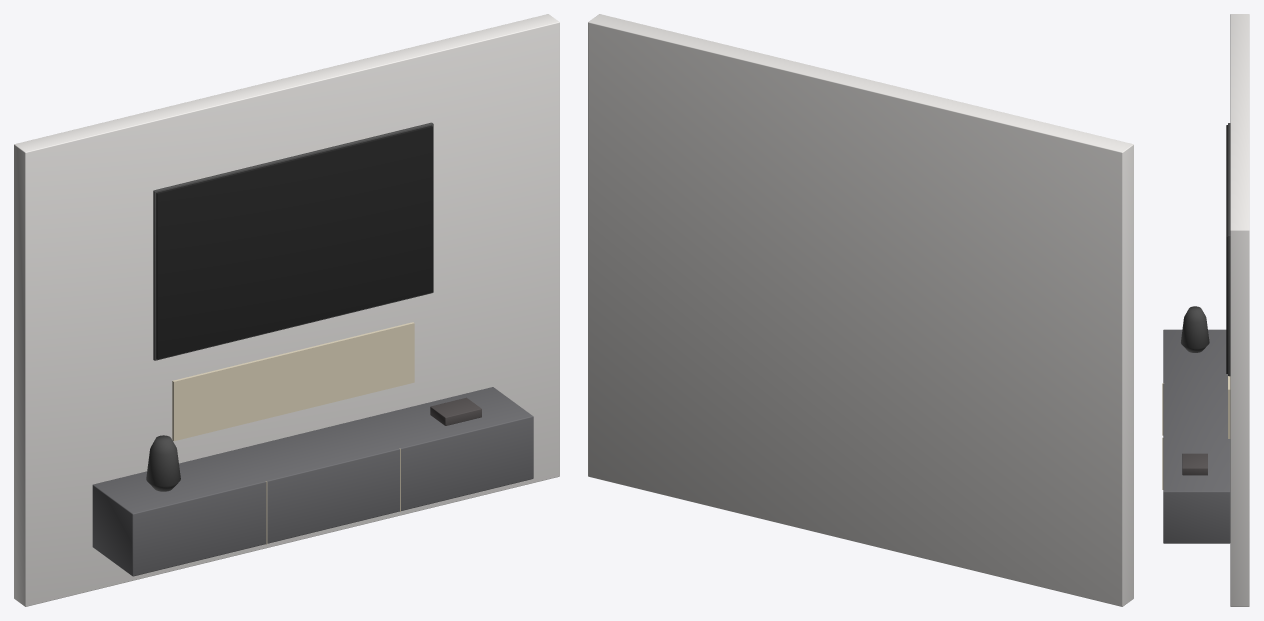
The model's file is it_media_wall.glb.
3 views of the same model, side by side, from view 1: azimuth 30°, elevation 25°; view 2: azimuth 150°, elevation 25°; view 3: azimuth 270°, elevation 25° (orthographic). The views are drawn at different scales.
Parts seen in each view (by area): view 1: slab, screen, cabinet, firetrim, bezel, vase, books; view 2: slab; view 3: cabinet, slab, vase, bezel, books, screen, firetrim.
Boxes of the visible parts, bbox=[...] form: slab: bbox=[14, 14, 559, 606]; screen: bbox=[156, 125, 432, 359]; cabinet: bbox=[92, 387, 533, 576]; firetrim: bbox=[172, 322, 414, 441]; bezel: bbox=[153, 122, 433, 360]; vase: bbox=[146, 435, 180, 491]; books: bbox=[430, 397, 481, 425]; slab: bbox=[588, 14, 1133, 606]; cabinet: bbox=[1163, 329, 1230, 543]; slab: bbox=[1230, 14, 1249, 606]; vase: bbox=[1181, 306, 1209, 352]; bezel: bbox=[1228, 123, 1230, 376]; books: bbox=[1182, 453, 1207, 475]; screen: bbox=[1226, 125, 1227, 373]; firetrim: bbox=[1228, 376, 1230, 438].
Bounding box in the file's own units: 3.2 × 2.6 × 0.545.
